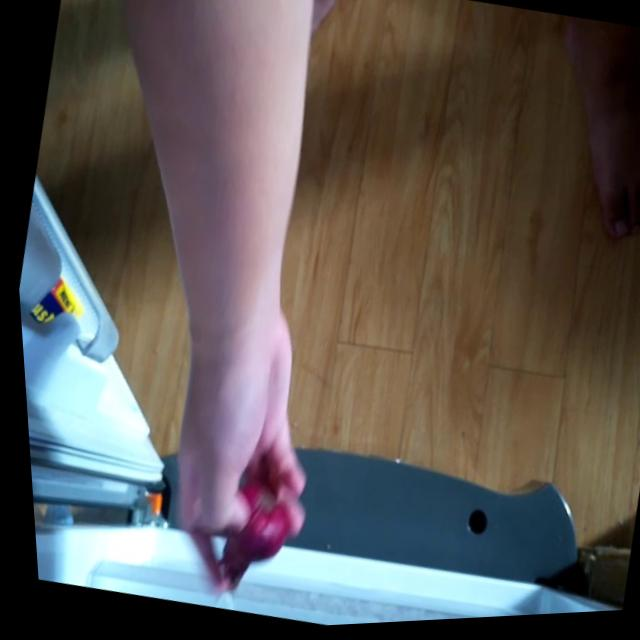onion: (200, 469, 294, 597)
